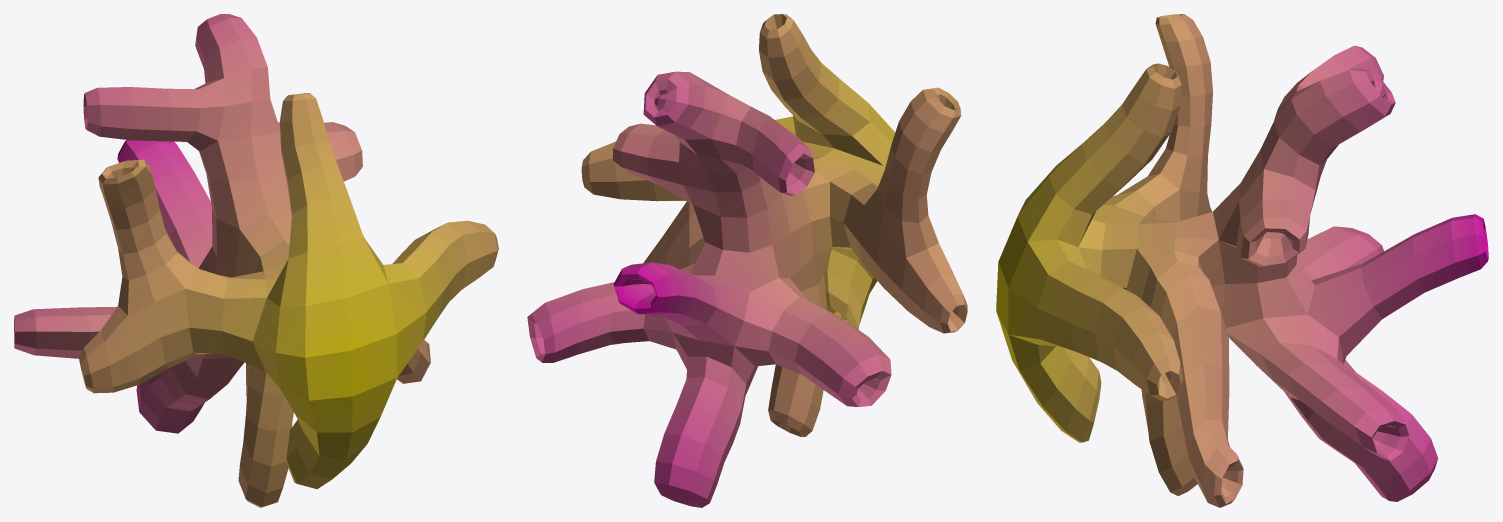
The model's file is CoralTree5.fbx.
The picture shows the model from 3 angles, left to right: view 1: azimuth 30°, elevation 25°; view 2: azimuth 150°, elevation 25°; view 3: azimuth 270°, elevation 25°; orthographic projection. The views are drawn at different scales.
Parts seen in each view (by area): view 1: Cube.004; view 2: Cube.004; view 3: Cube.004.
Part boxes in pixels (x1=…): Cube.004: x1=14, y1=14, x2=498, y2=507; Cube.004: x1=527, y1=14, x2=967, y2=507; Cube.004: x1=996, y1=14, x2=1488, y2=507.
Bounding box in the file's own units: 7500 × 7500 × 7500.
